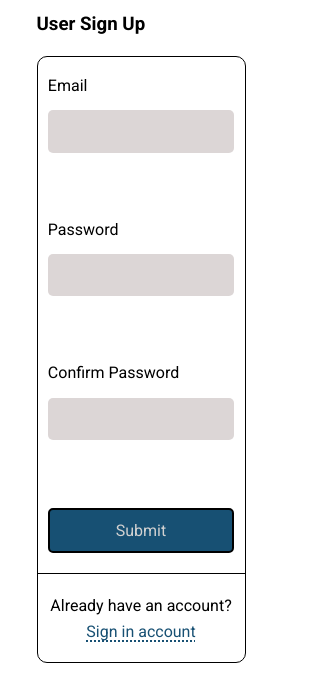
Test case: Register component › should render the error field messages if email field fails validation after submission
The image size is (320, 680).
Click the button "Submit". click: coordinates (141, 531)
box: [48, 508, 234, 553]
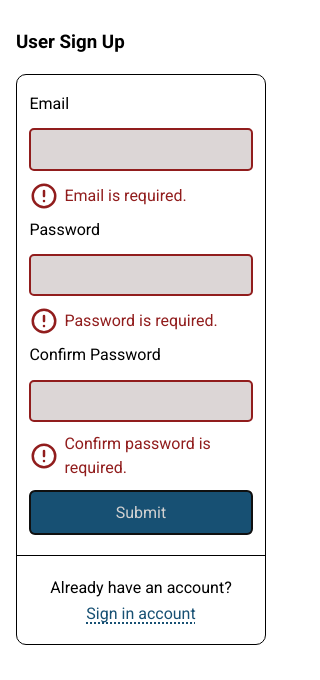
Now the text "Email is required." is shown, box [64, 186, 187, 205]
Now the text "Password is required." is shown, box [64, 311, 218, 330]
Now the text "Confirm password is required." is shown, box [64, 434, 215, 477]
